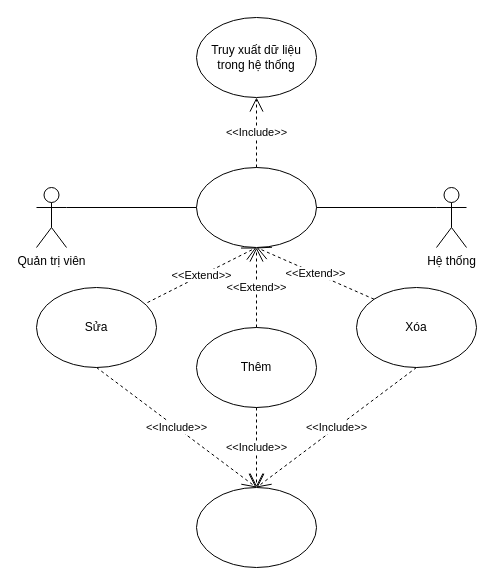
Image size: 494x585. Some labels were removed from this diagram. Each missing label, with the centre of its shape:
Kiểm tra dữ liệu: [256,527]
Thao tác dữ liệu: [256,207]
